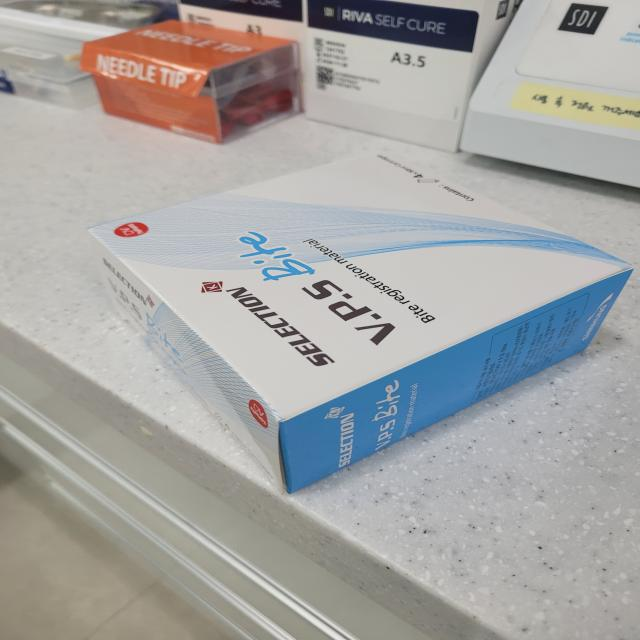impression: (69, 125, 640, 504)
